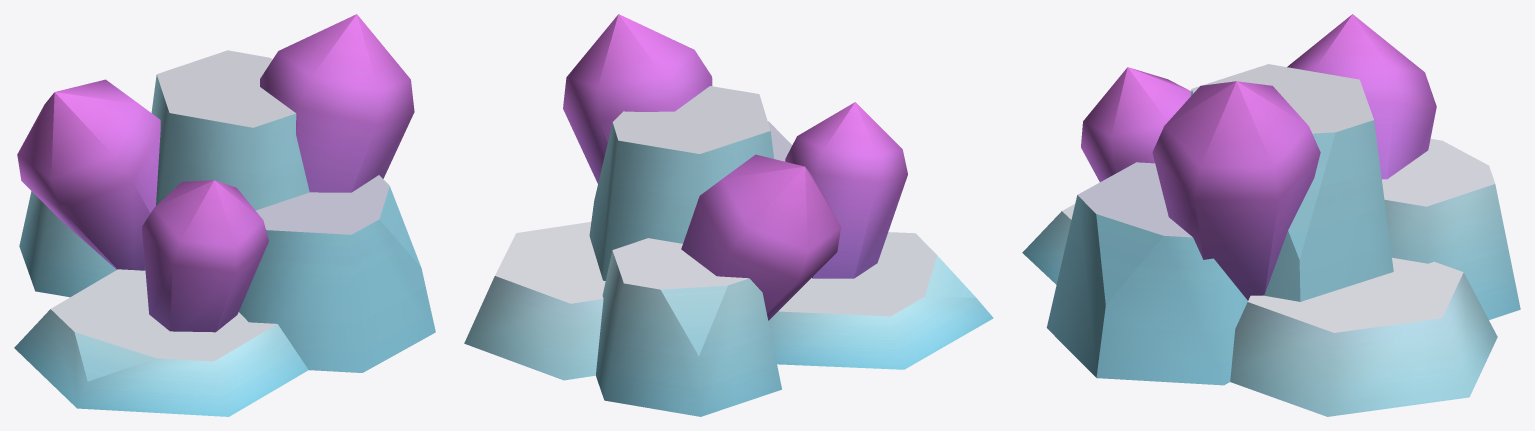
The model's file is kenney-tower-defense-snow-detail-crystal-large.glb.
3 views of the same model, side by side, from view 1: azimuth 30°, elevation 25°; view 2: azimuth 150°, elevation 25°; view 3: azimuth 270°, elevation 25° (orthographic). The views are drawn at different scales.
Visible parts, largest first — view 1: snow-detail-crystal-large; view 2: snow-detail-crystal-large; view 3: snow-detail-crystal-large.
Part boxes in pixels (x1,y1,x2,y2): snow-detail-crystal-large: (14,14,435,416); snow-detail-crystal-large: (464,14,993,416); snow-detail-crystal-large: (1022,14,1520,416).
Size of the model in its own units: 0.8922 by 0.5518 by 0.8593.
1 material, 1 textured.
